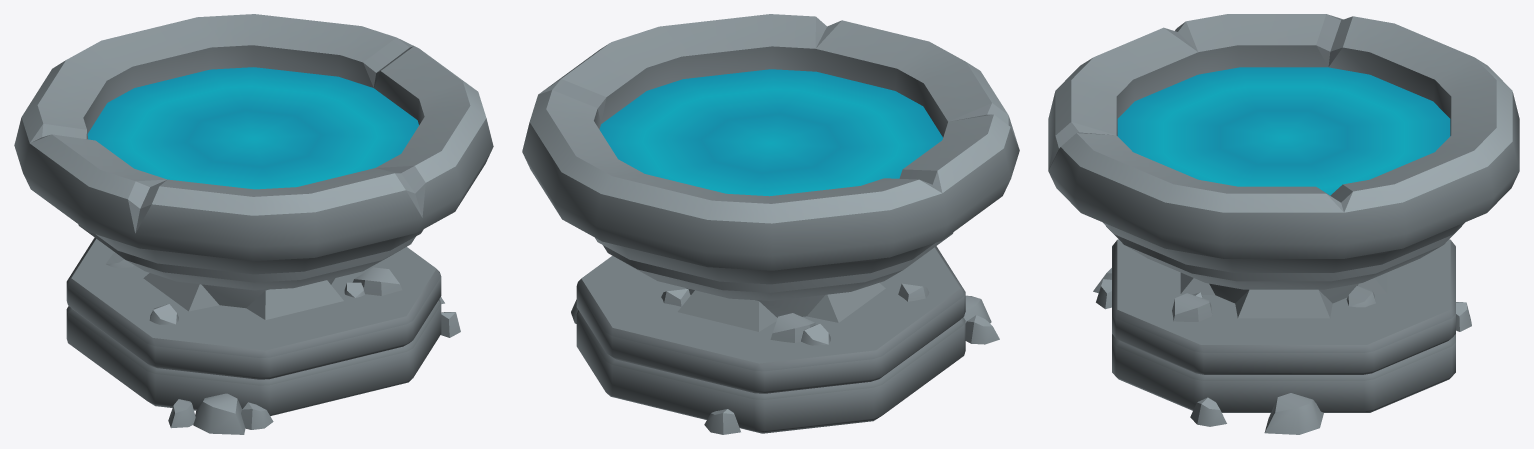
File: Cleric_Font.fbx
3 views of the same model, side by side, from view 1: azimuth 30°, elevation 25°; view 2: azimuth 150°, elevation 25°; view 3: azimuth 270°, elevation 25° (orthographic). The views are drawn at different scales.
Parts seen in each view (by area): view 1: Cleric_Font, Cleric_Font_Water; view 2: Cleric_Font, Cleric_Font_Water; view 3: Cleric_Font, Cleric_Font_Water.
Part boxes in pixels (bbox=[...]): Cleric_Font: bbox=[14, 14, 493, 434]; Cleric_Font_Water: bbox=[87, 67, 418, 189]; Cleric_Font: bbox=[522, 14, 1019, 434]; Cleric_Font_Water: bbox=[599, 69, 942, 196]; Cleric_Font: bbox=[1048, 14, 1519, 434]; Cleric_Font_Water: bbox=[1117, 67, 1450, 195].
Bounding box in the file's own units: 1.44 × 0.805 × 1.44.
